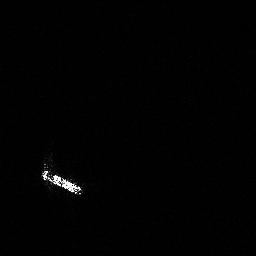ship: (40, 168, 85, 197)
